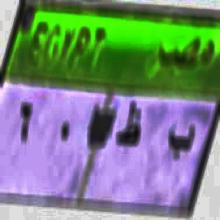0: (56, 114, 73, 156)
6: (17, 99, 34, 153)
Thaa: (117, 100, 143, 152)
baa: (167, 118, 195, 170)
